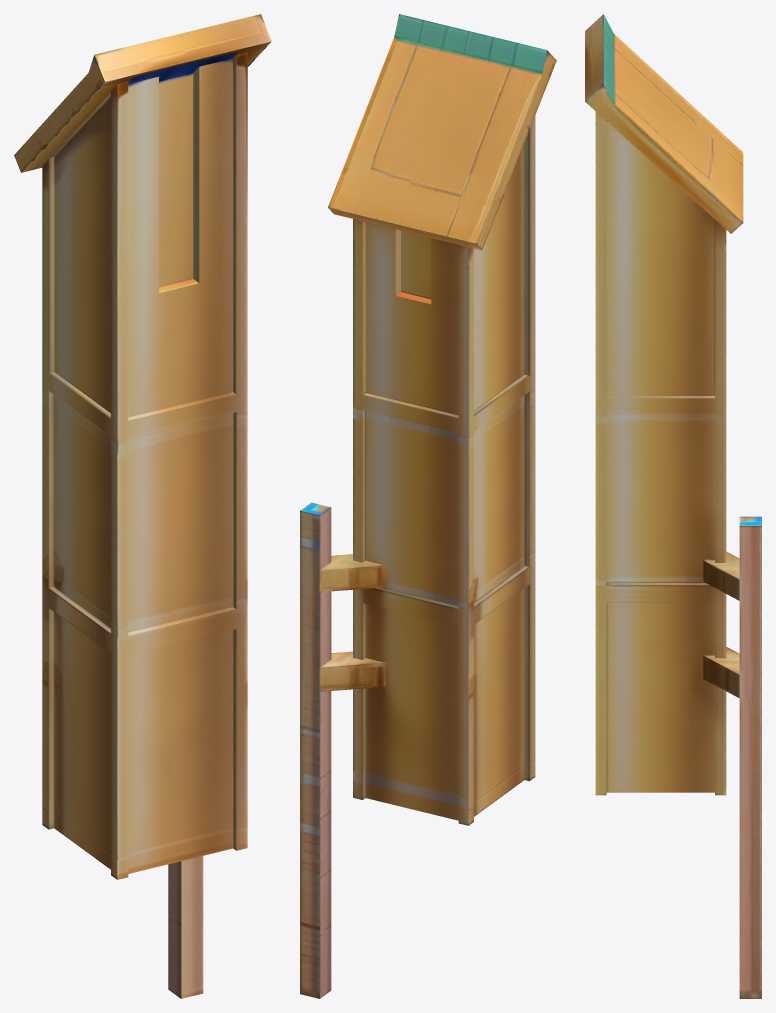
Rendered from tower_for_mine_1208053845.fbx.
3 views of the same model, side by side, from view 1: azimuth 30°, elevation 25°; view 2: azimuth 150°, elevation 25°; view 3: azimuth 270°, elevation 25° (orthographic). The views are drawn at different scales.
Parts seen in each view (by area): view 1: Mesh_0; view 2: Mesh_0; view 3: Mesh_0.
Boxes of the visible parts, box(x1,y1,x2,y2) form: Mesh_0: box(14, 14, 271, 998); Mesh_0: box(300, 14, 556, 998); Mesh_0: box(585, 14, 761, 998).
Size of the model in its own units: 18.81 by 100 by 17.71.
Materials: 1 (1 with a texture image).
